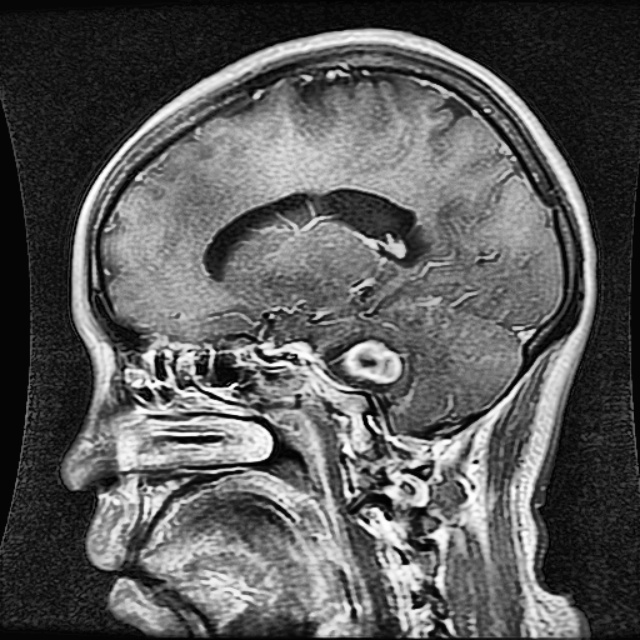Meningioma: (343, 343, 398, 384)
